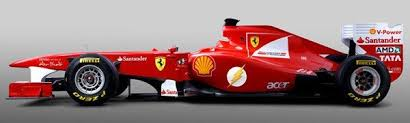FormulaOneCar: (5, 10, 394, 113)
